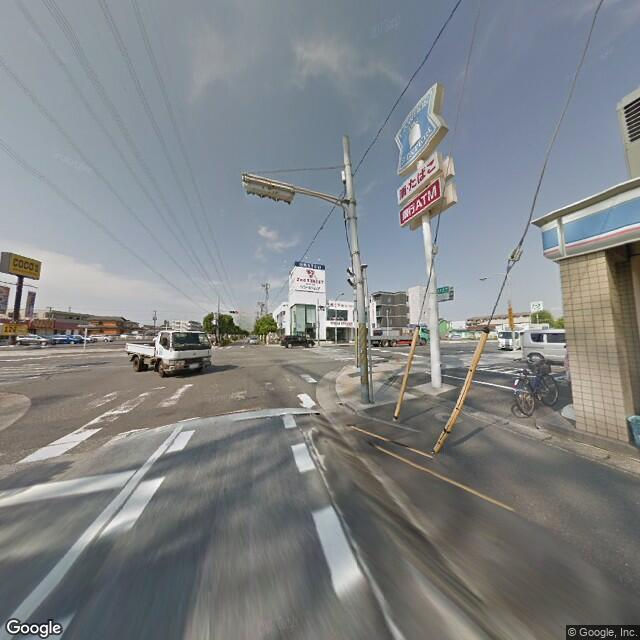lawson: (536, 180, 639, 264), (388, 80, 442, 175)
